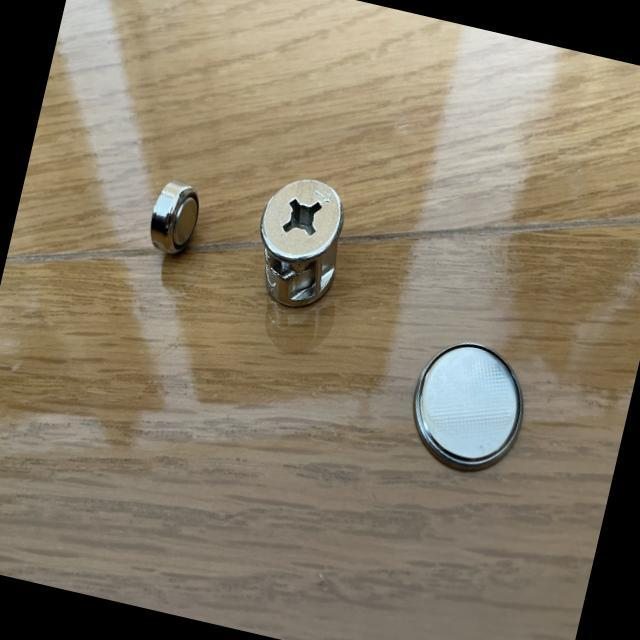COIN: (401, 331, 536, 482), (143, 175, 205, 259)
